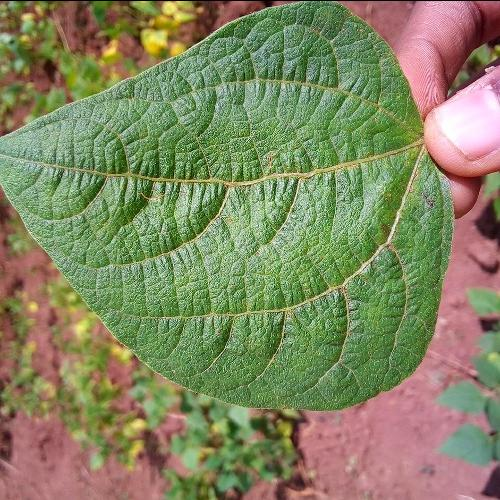sehat: (0, 0, 453, 405)
